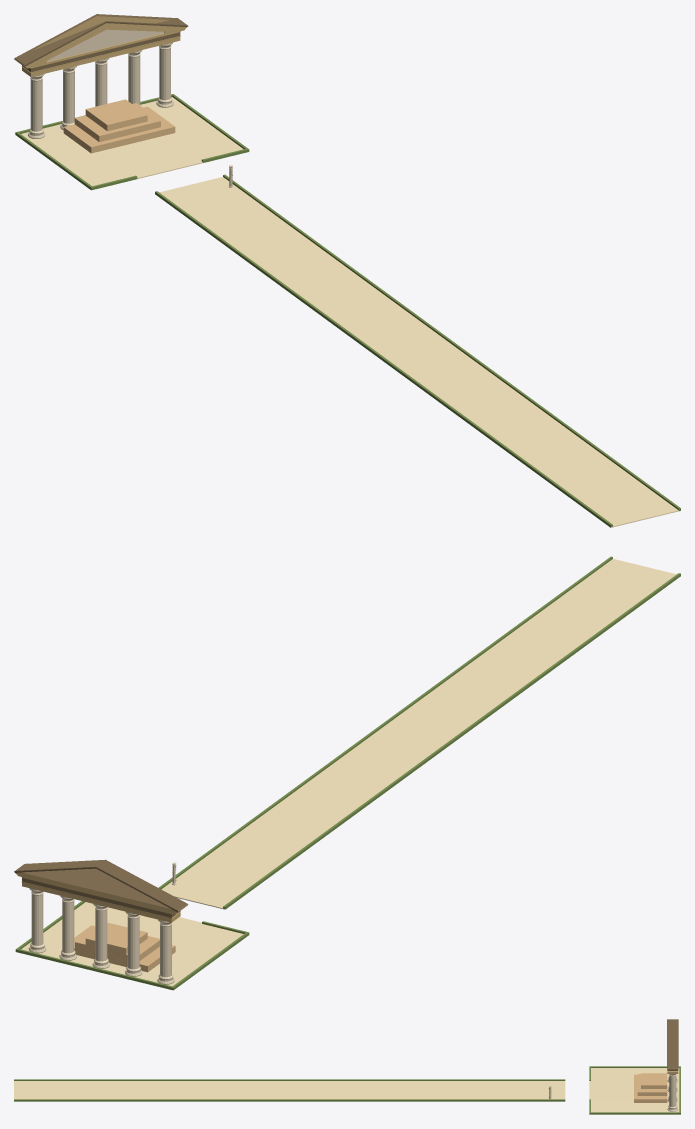
The model's file is path1.fbx.
3 renders of one model, top to bottom at view 1: azimuth 30°, elevation 25°; view 2: azimuth 150°, elevation 25°; view 3: azimuth 270°, elevation 25°, orthographic. The views are drawn at different scales.
Visible parts, largest first — view 1: path-atlas, temple, path-zeus, stairs; view 2: path-atlas, temple, path-zeus, stairs; view 3: path-atlas, path-zeus, temple, stairs.
Boxes of the visible parts, x1,y1,x2,y2 form: path-atlas: [155, 174, 680, 527]; temple: [14, 14, 188, 138]; path-zeus: [15, 94, 249, 190]; stairs: [63, 99, 175, 153]; path-atlas: [158, 556, 680, 909]; temple: [14, 859, 188, 984]; path-zeus: [15, 901, 249, 990]; stairs: [74, 922, 175, 972]; path-atlas: [14, 1079, 565, 1101]; path-zeus: [589, 1066, 680, 1114]; temple: [667, 1019, 678, 1111]; stairs: [634, 1073, 667, 1102].
Bounding box in the file's own units: 18.78 × 11.22 × 109.
